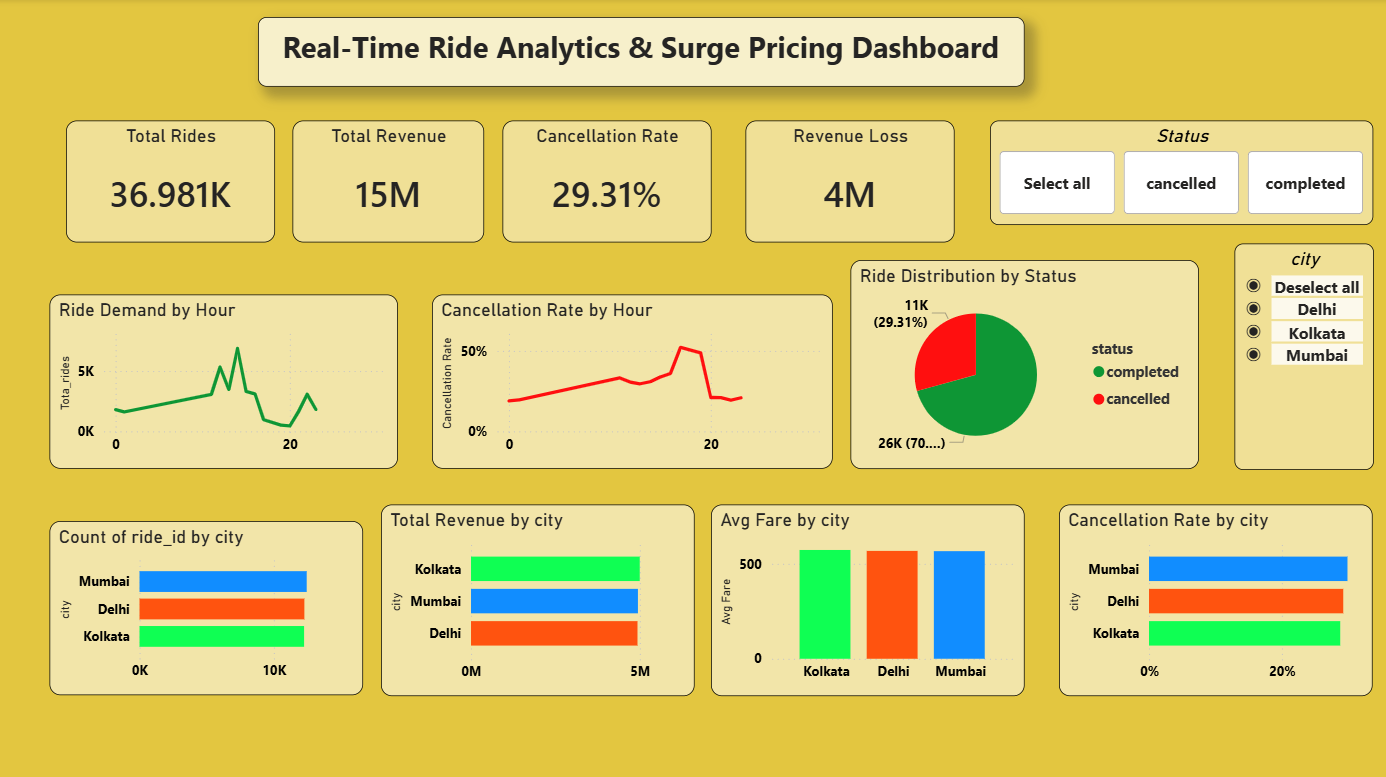

The page's visual inventory and layout, read from the dashboard file:
{"tool":"powerbi","page":{"name":"Page 1","canvas":[1280,720],"ordinal":0},"visuals":[{"type":"cardVisual","title":"Total Rides","fields":{"Data":["public rides.Tota_rides"]},"box":[64,112,192,112],"z":0},{"type":"cardVisual","title":"Total Revenue","fields":{"Data":["public rides.Total Revenue"]},"box":[272,112,176,112],"z":1000},{"type":"cardVisual","title":"Cancellation Rate","fields":{"Data":["public rides.Cancellation Rate"]},"box":[464,112,192,112],"z":2000},{"type":"lineChart","title":"Ride Demand by Hour","fields":{"Category":["public rides.Hour"],"Y":["public rides.Tota_rides"]},"box":[48,272,320,160],"z":3000},{"type":"lineChart","fields":{"Category":["public rides.Hour"],"Y":["public rides.Cancellation Rate"]},"box":[400,272,368,160],"z":4000},{"type":"barChart","fields":{"Y":["CountNonNull(public rides.ride_id)"],"Category":["public rides.city"]},"box":[48,480,288,160],"z":5000},{"type":"barChart","fields":{"Category":["public rides.city"],"Y":["public rides.Cancellation Rate"]},"box":[976,464,288,176],"z":6000},{"type":"pieChart","title":"Ride Distribution by Status","fields":{"Y":["public rides.Tota_rides"],"Category":["public rides.status"]},"box":[784,240,320,192],"z":7000},{"type":"barChart","fields":{"Y":["public rides.Total Revenue"],"Category":["public rides.city"]},"box":[352,464,288,176],"z":8000},{"type":"columnChart","fields":{"Y":["public rides.Avg Fare"],"Category":["public rides.city"]},"box":[656,464,288,176],"z":9000},{"type":"advancedSlicerVisual","title":"Status","fields":{"Values":["public rides.status"]},"box":[912,112,352,96],"z":10000},{"type":"listSlicer","fields":{"Values":["public rides.city"]},"box":[1136,224,128,208],"z":11000},{"type":"textbox","box":[240,16,704,64],"z":12000},{"type":"cardVisual","title":"Revenue Loss","fields":{"Data":["public rides.Revenue Loss"]},"box":[688,112,192,112],"z":12001}]}

Visuals, with their boxes in screenshot pixels (x1, y1, x2, y2), scaled from the page's 1280x720 canvas onto the 1386x777 screenshot:
"Total Rides" cardVisual: locate(69, 121, 277, 242)
"Total Revenue" cardVisual: locate(295, 121, 485, 242)
"Cancellation Rate" cardVisual: locate(502, 121, 710, 242)
"Ride Demand by Hour" lineChart: locate(52, 294, 398, 466)
lineChart - public rides.Hour x public rides.Cancellation Rate: locate(433, 294, 832, 466)
barChart - CountNonNull(public rides.ride_id) x public rides.city: locate(52, 518, 364, 691)
barChart - public rides.city x public rides.Cancellation Rate: locate(1057, 501, 1369, 691)
"Ride Distribution by Status" pieChart: locate(849, 259, 1195, 466)
barChart - public rides.Total Revenue x public rides.city: locate(381, 501, 693, 691)
columnChart - public rides.Avg Fare x public rides.city: locate(710, 501, 1022, 691)
"Status" advancedSlicerVisual: locate(988, 121, 1369, 224)
listSlicer - public rides.city: locate(1230, 242, 1369, 466)
textbox: locate(260, 17, 1022, 86)
"Revenue Loss" cardVisual: locate(745, 121, 953, 242)
